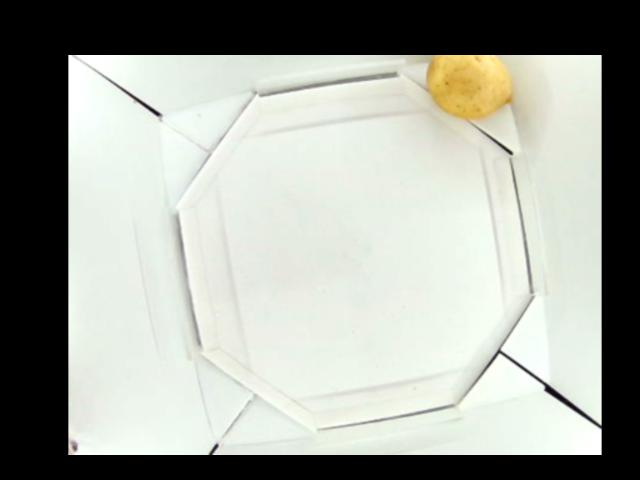Potato: (428, 55, 515, 120)
